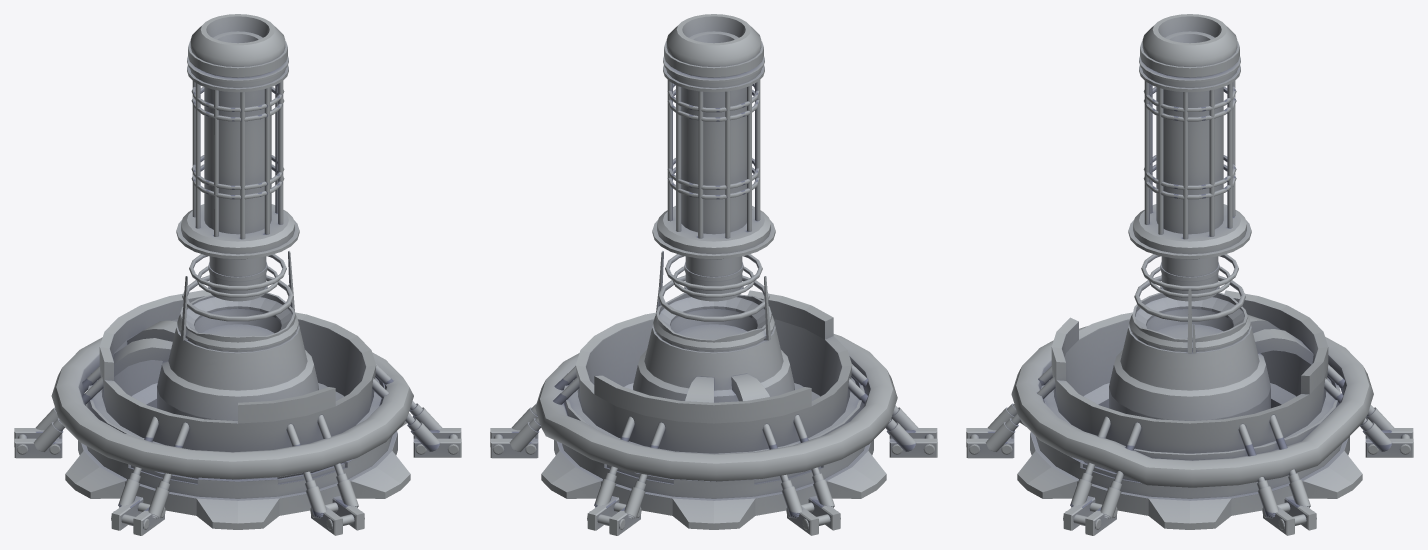
The model's file is Soul_Container.fbx.
3 renders of one model, left to right at view 1: azimuth 30°, elevation 25°; view 2: azimuth 150°, elevation 25°; view 3: azimuth 270°, elevation 25°, orthographic.
Parts seen in each view (by area): view 1: Soul_Container; view 2: Soul_Container; view 3: Soul_Container.
Part boxes in pixels (bbox=[...]): Soul_Container: bbox=[14, 14, 461, 535]; Soul_Container: bbox=[490, 14, 937, 535]; Soul_Container: bbox=[966, 14, 1413, 535].
Bounding box in the file's own units: 870 × 1001 × 963.
Materials: 1 (1 with a texture image).
